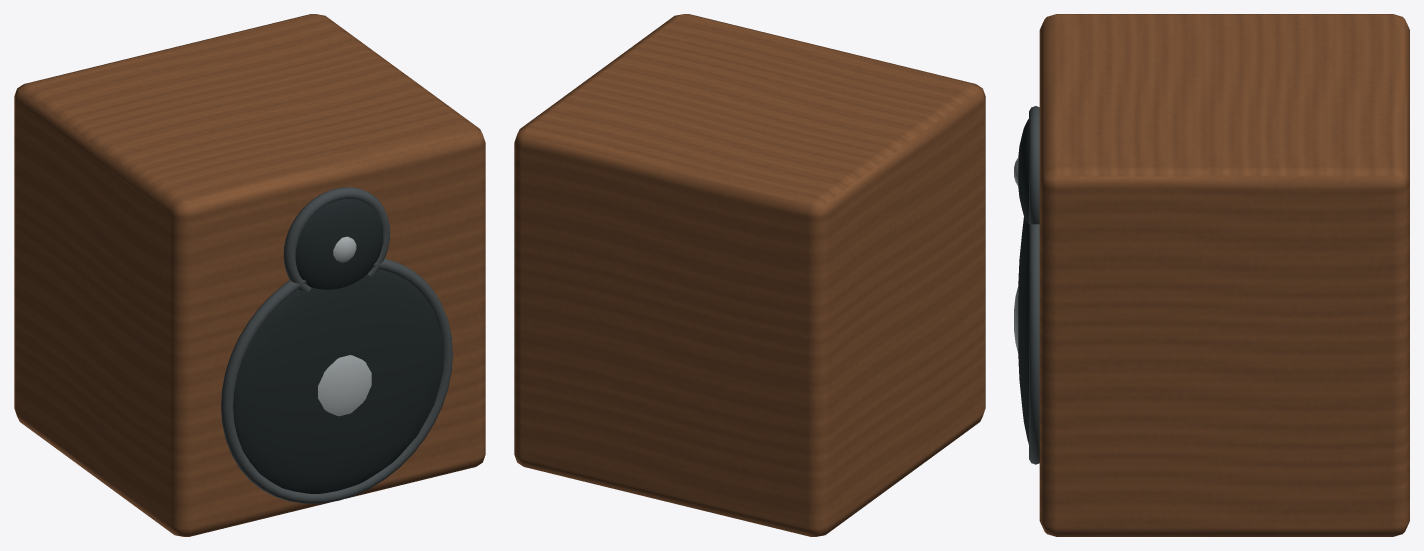
File: spk_subwoofer-dda2460032f2.glb
The picture shows the model from 3 angles, left to right: view 1: azimuth 30°, elevation 25°; view 2: azimuth 150°, elevation 25°; view 3: azimuth 270°, elevation 25°; orthographic projection. The views are drawn at different scales.
Visible parts, largest first — view 1: surface_walnut, surface_black, surface_graphite, surface_steel; view 2: surface_walnut; view 3: surface_walnut, surface_graphite, surface_black.
Part boxes in pixels (x1=…): surface_walnut: x1=14, y1=14, x2=485, y2=536; surface_black: x1=233, y1=199, x2=443, y2=493; surface_graphite: x1=221, y1=187, x2=452, y2=503; surface_steel: x1=318, y1=236, x2=371, y2=416; surface_walnut: x1=514, y1=14, x2=985, y2=536; surface_walnut: x1=1039, y1=14, x2=1409, y2=536; surface_graphite: x1=1029, y1=106, x2=1039, y2=464; surface_black: x1=1018, y1=119, x2=1028, y2=444.
Bounding box in the file's own units: 0.28 × 0.29 × 0.2815.
Materials: 4 (1 with a texture image).
